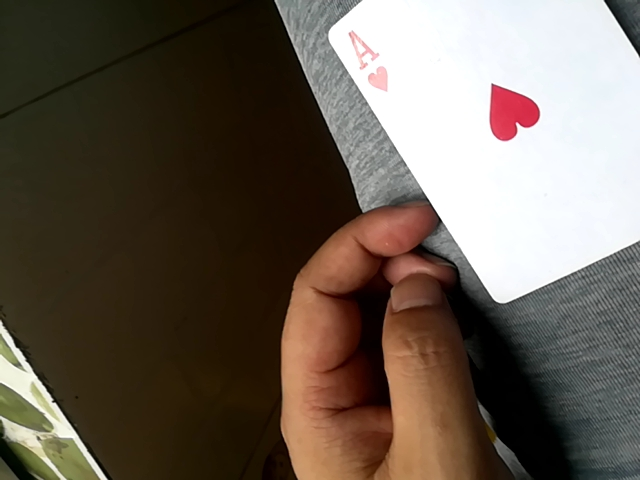hx a: (330, 1, 638, 305)
